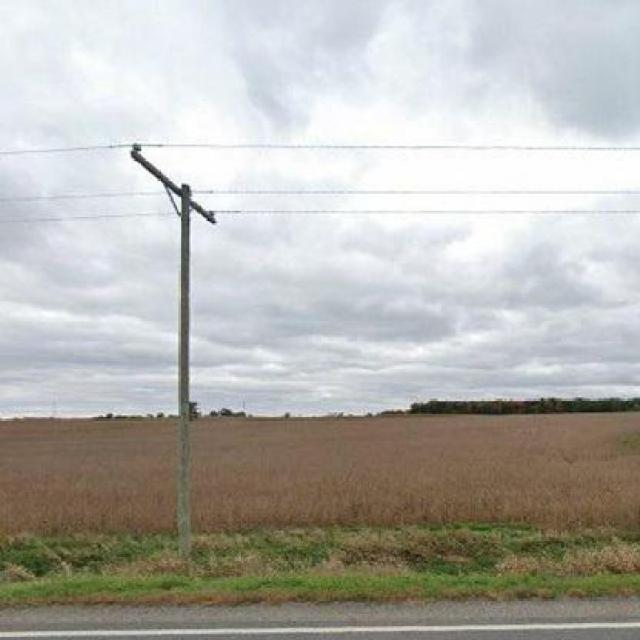pole: (120, 132, 223, 556)
